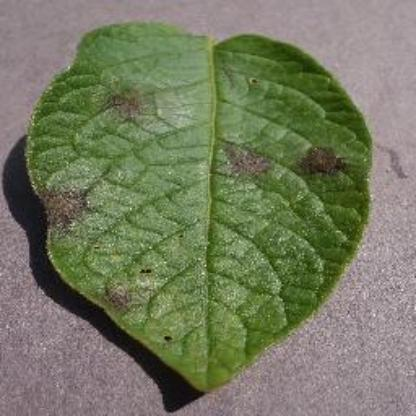Late-Blight: (22, 19, 378, 396)
